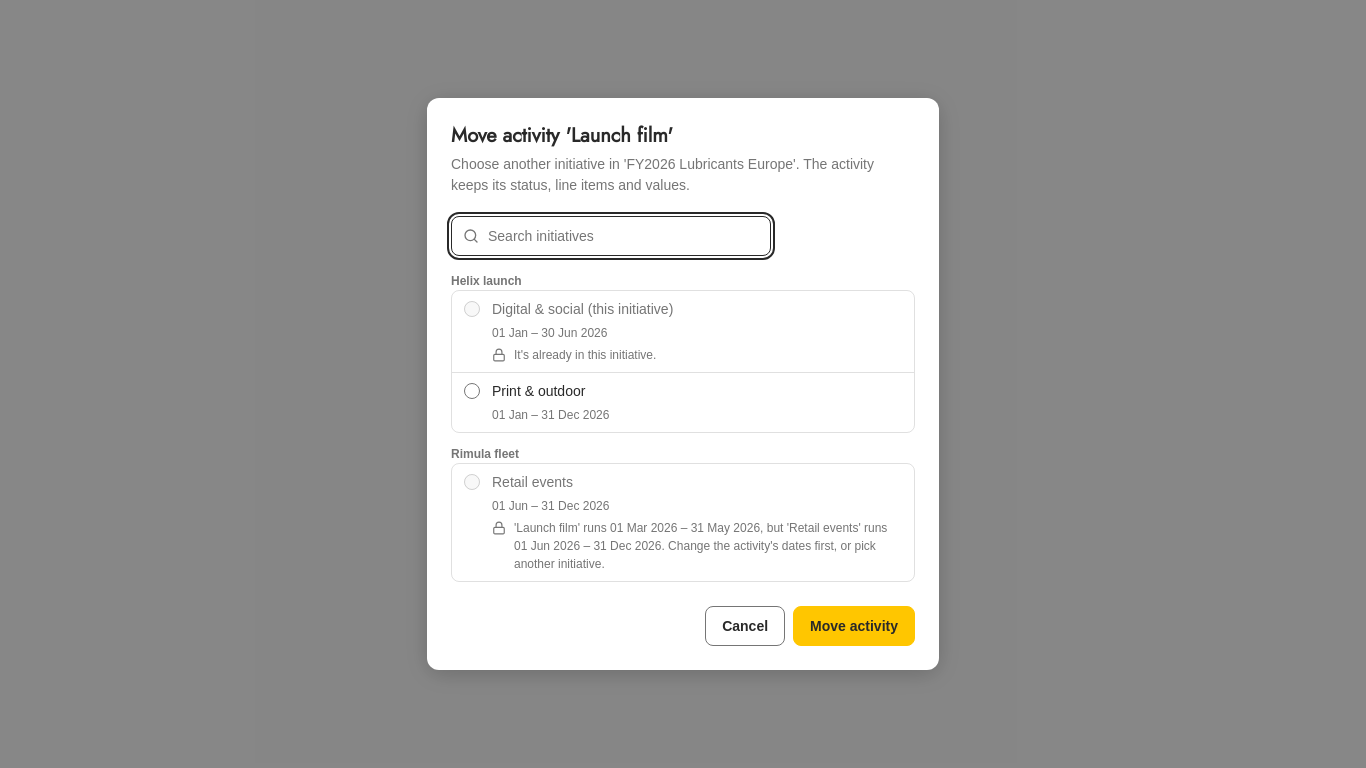
MoveActivityDialog (feature 006, US5#1, FR-029) › finds initiatives by their name or their campaign’s name
In the search field labelled "Search initiatives": (611,236) [451, 216, 771, 256], type "rimula"
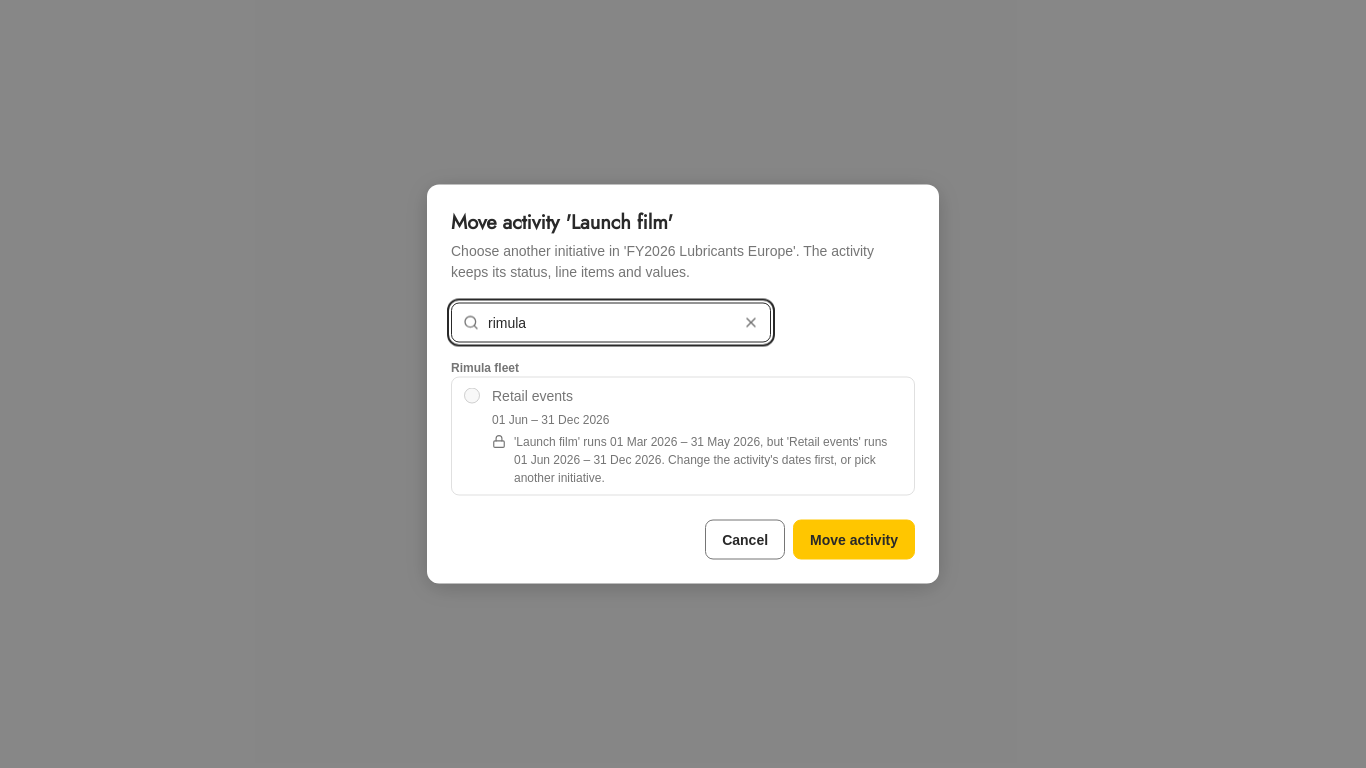
Check: the radio button labelled "Retail events" is shown, box [464, 388, 480, 404]
Check: the label "Print & outdoor" is gone
Clear the search field named "Search initiatives": (611,322) [451, 302, 771, 342]
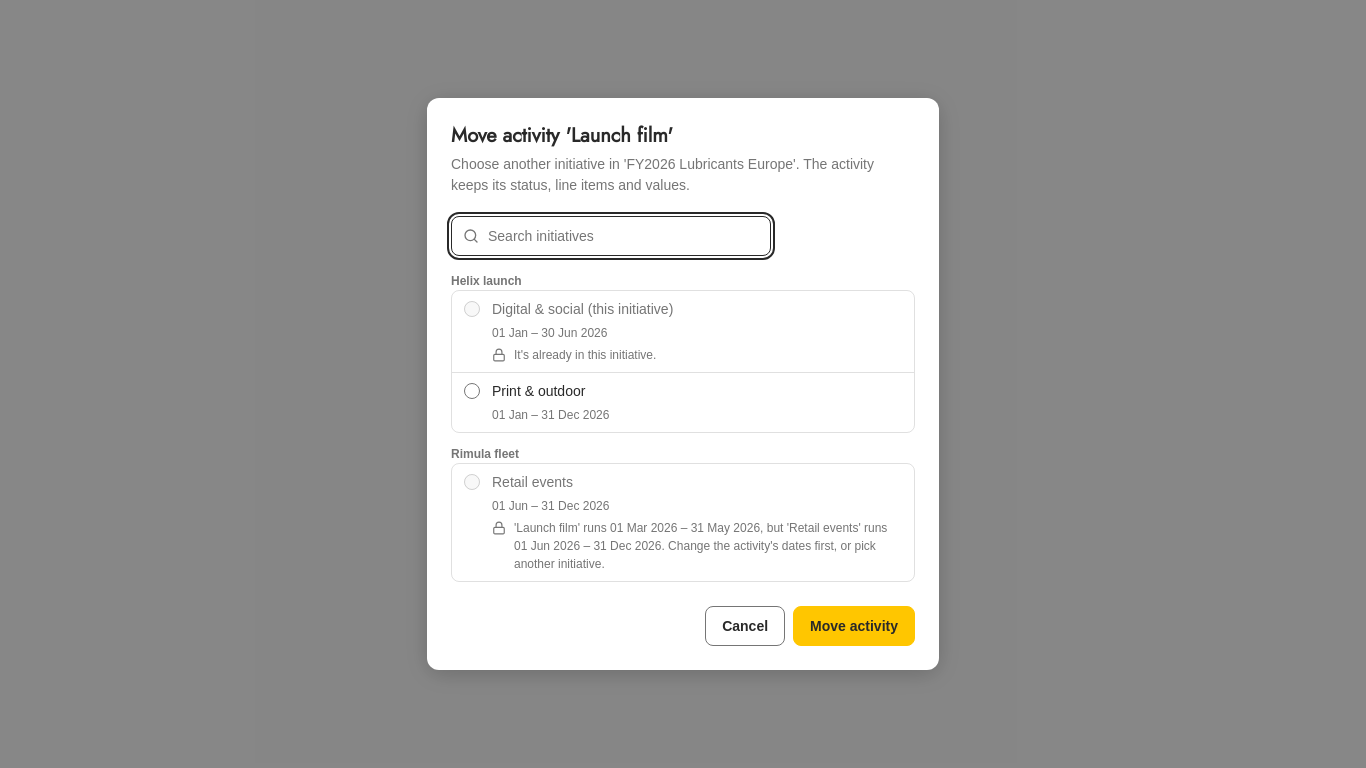
In the search field labelled "Search initiatives": (611,236) [451, 216, 771, 256], type "print"
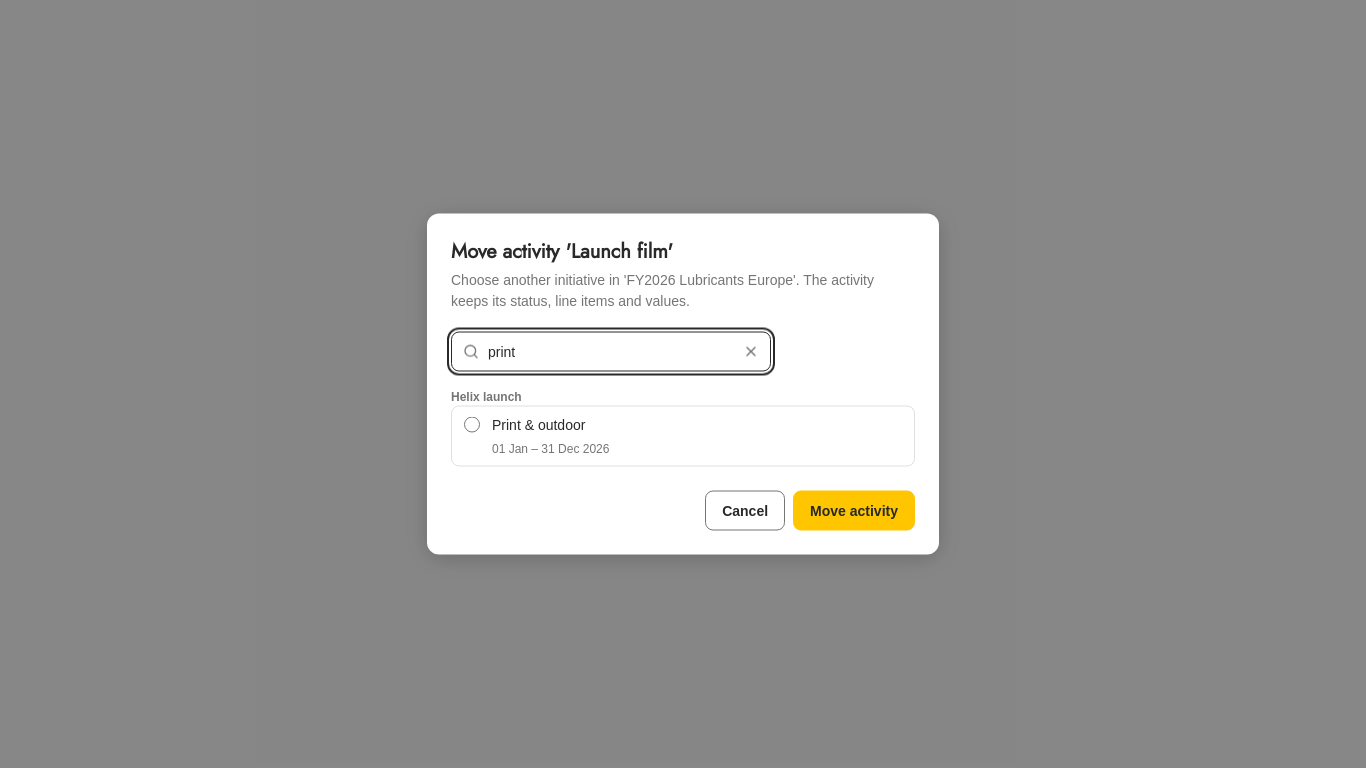
Check: the radio button labelled "Print & outdoor" is shown, box [464, 416, 480, 432]
Check: the text "Rimula fleet" is gone
Clear the search field named "Search initiatives": (611,352) [451, 332, 771, 372]
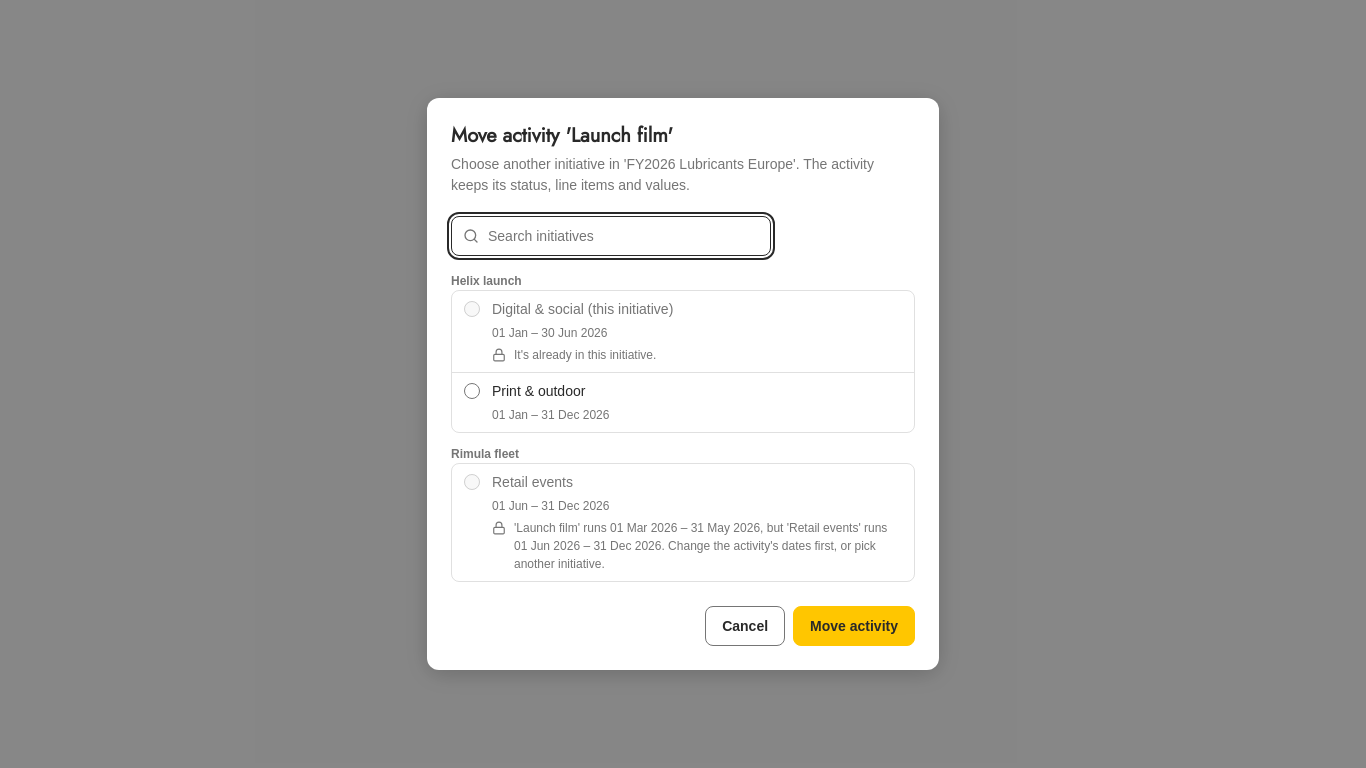
In the search field labelled "Search initiatives": (611,236) [451, 216, 771, 256], type "zzz"
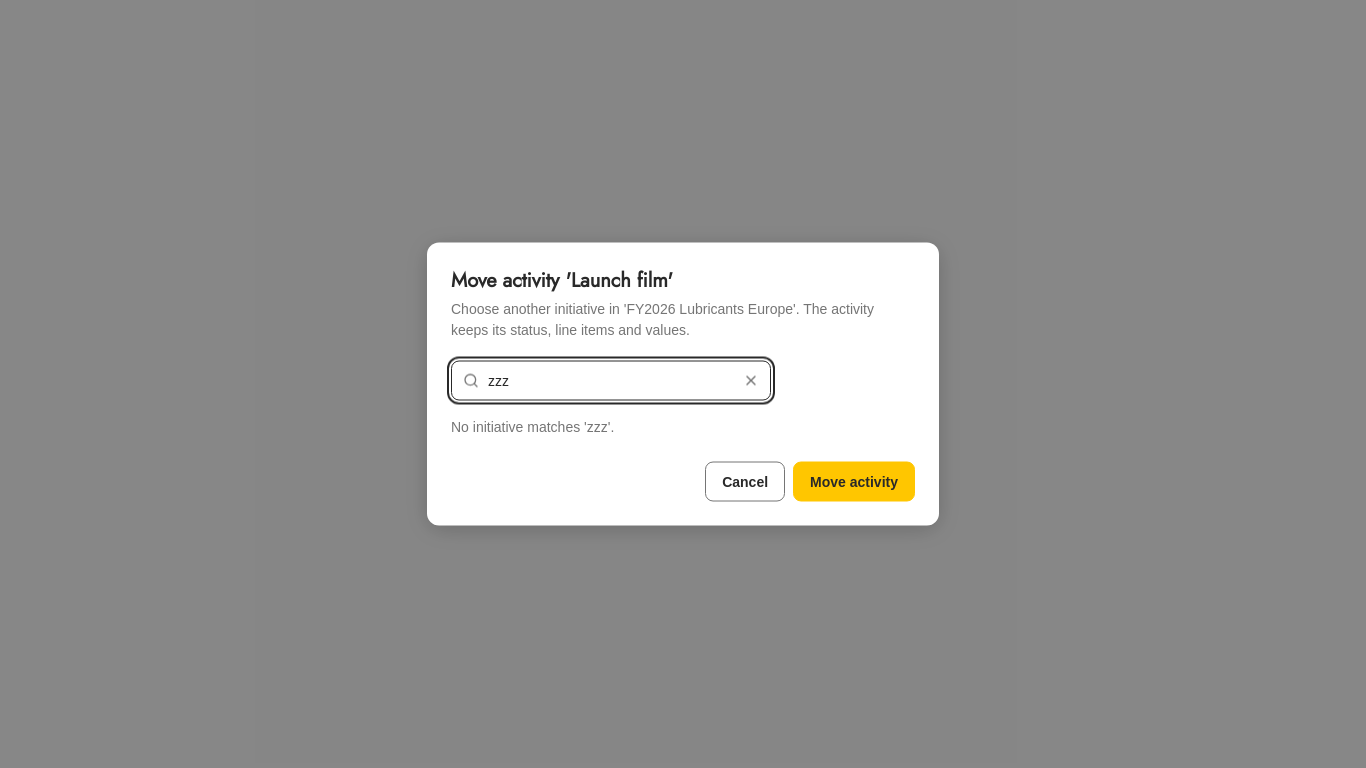
Check: the text "No initiative matches 'zzz'." is shown, box [451, 418, 614, 434]
